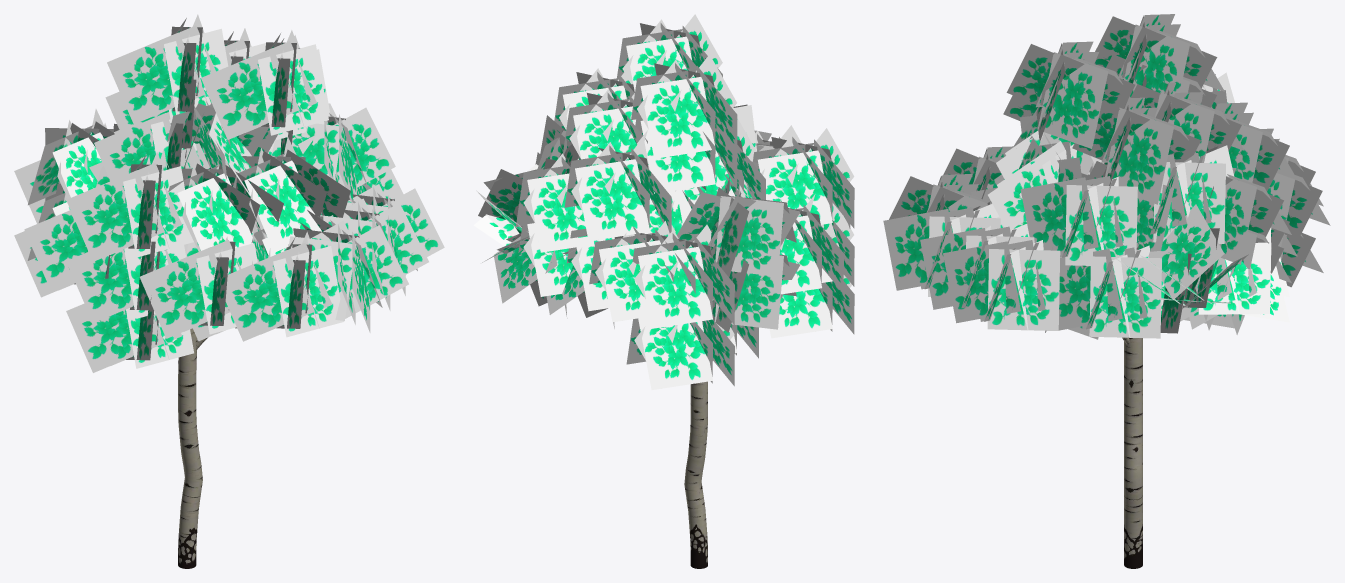
File: Tree2.fbx
The picture shows the model from 3 angles, left to right: view 1: azimuth 30°, elevation 25°; view 2: azimuth 150°, elevation 25°; view 3: azimuth 270°, elevation 25°; orthographic projection. The views are drawn at different scales.
Visible parts, largest first — view 1: Cylinder039; view 2: Cylinder039; view 3: Cylinder039.
Part boxes in pixels (x1=…): Cylinder039: x1=14, y1=14, x2=444, y2=568; Cylinder039: x1=473, y1=14, x2=854, y2=568; Cylinder039: x1=883, y1=14, x2=1330, y2=568.
Size of the model in its own units: 444 by 628 by 464.
2 materials, 2 textured.
